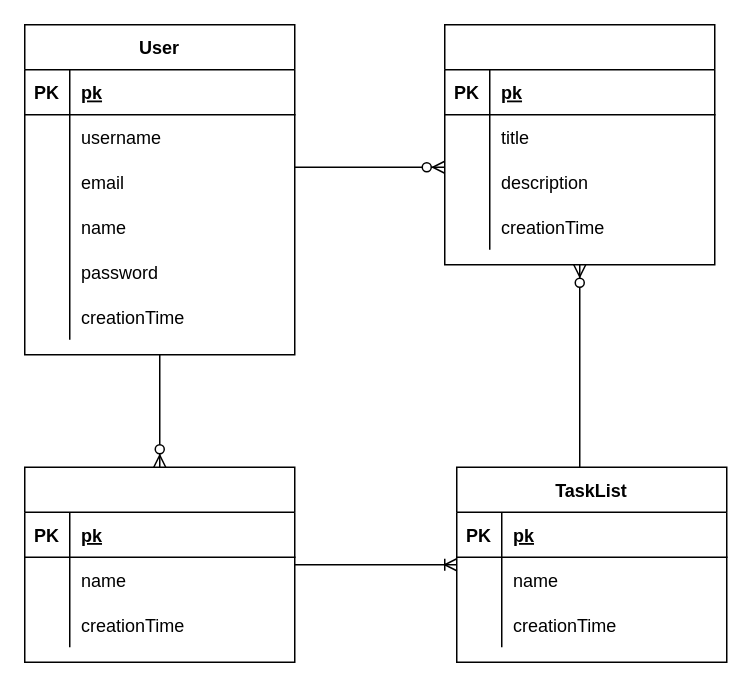
Some shapes in this 752 by 687 pixel diagram are drawn without their labels. Here are the shapes that lost their labels. From the top down, the box of each, then its label:
(443, 23, 715, 265): Task
(23, 466, 295, 662): Project
